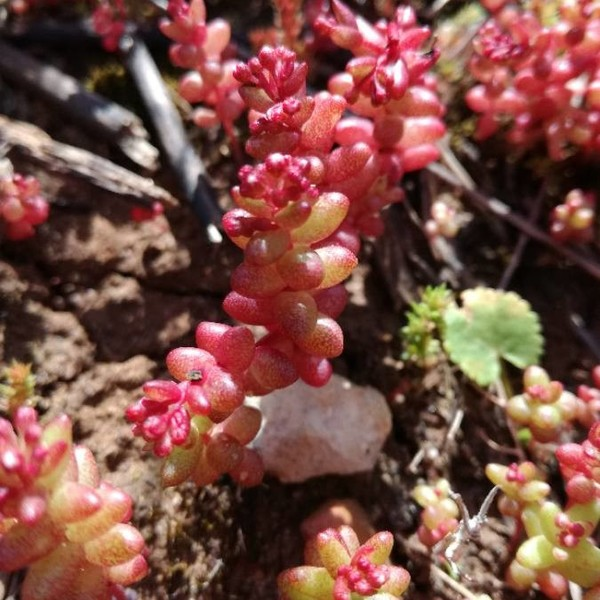obstacle: (115, 83, 465, 484)
